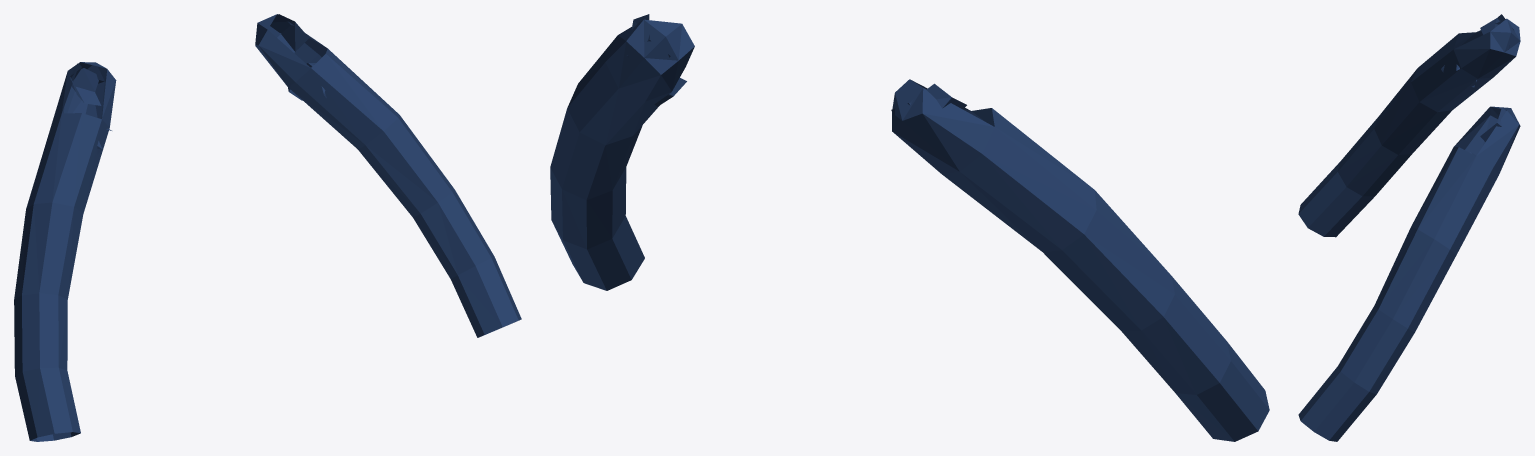
Rendered from Vena Iliaca Externa.FBX.
3 renders of one model, left to right at view 1: azimuth 30°, elevation 25°; view 2: azimuth 150°, elevation 25°; view 3: azimuth 270°, elevation 25°, orthographic. The views are drawn at different scales.
Parts seen in each view (by area): view 1: CS_Veins; view 2: CS_Veins; view 3: CS_Veins.
Part boxes in pixels (x1,y1,x2,y2): CS_Veins: (14,14,521,441); CS_Veins: (550,14,1269,441); CS_Veins: (1298,14,1520,441).
Size of the model in its own units: 364 by 206 by 151.
